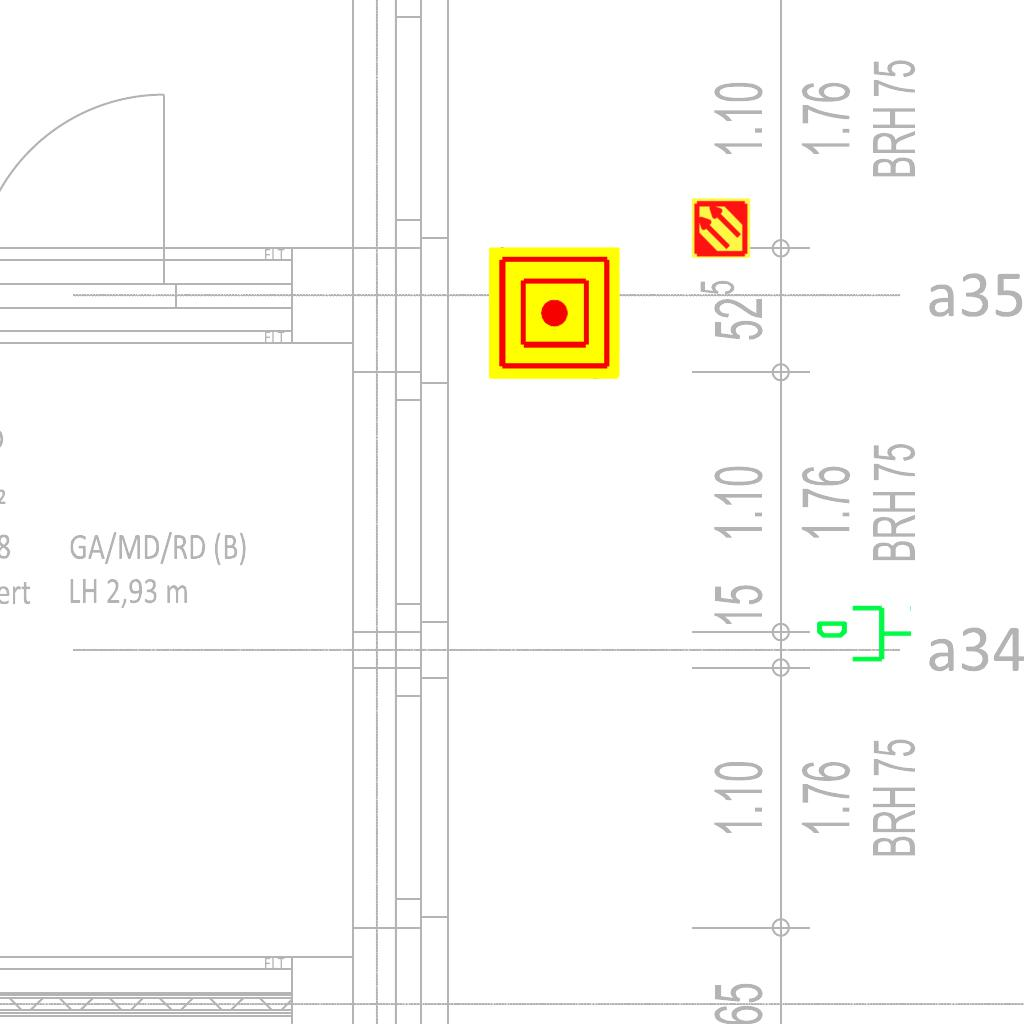ASR_Ansaugrauchmelder: (690, 197, 752, 259)
Datenanschluss_einfach: (814, 601, 914, 670)
NAM-Nichtautomatischer_Melder: (488, 247, 620, 379)
